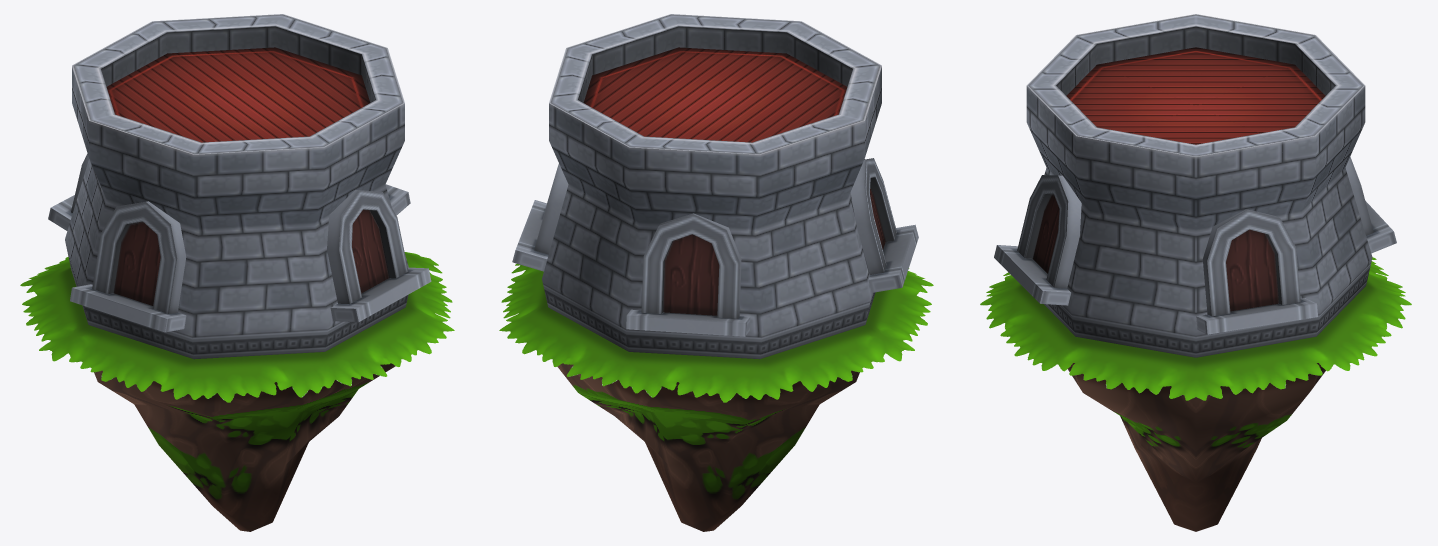
The model's file is MageTower_Level1.FBX.
The picture shows the model from 3 angles, left to right: view 1: azimuth 30°, elevation 25°; view 2: azimuth 150°, elevation 25°; view 3: azimuth 270°, elevation 25°; orthographic projection.
Visible parts, largest first — view 1: %; view 2: %; view 3: %.
Boxes of the visible parts, x1=… form: %: x1=20, y1=14, x2=454, y2=531; %: x1=499, y1=14, x2=933, y2=531; %: x1=980, y1=14, x2=1411, y2=531.
Size of the model in its own units: 49.47 by 52.44 by 49.41.
